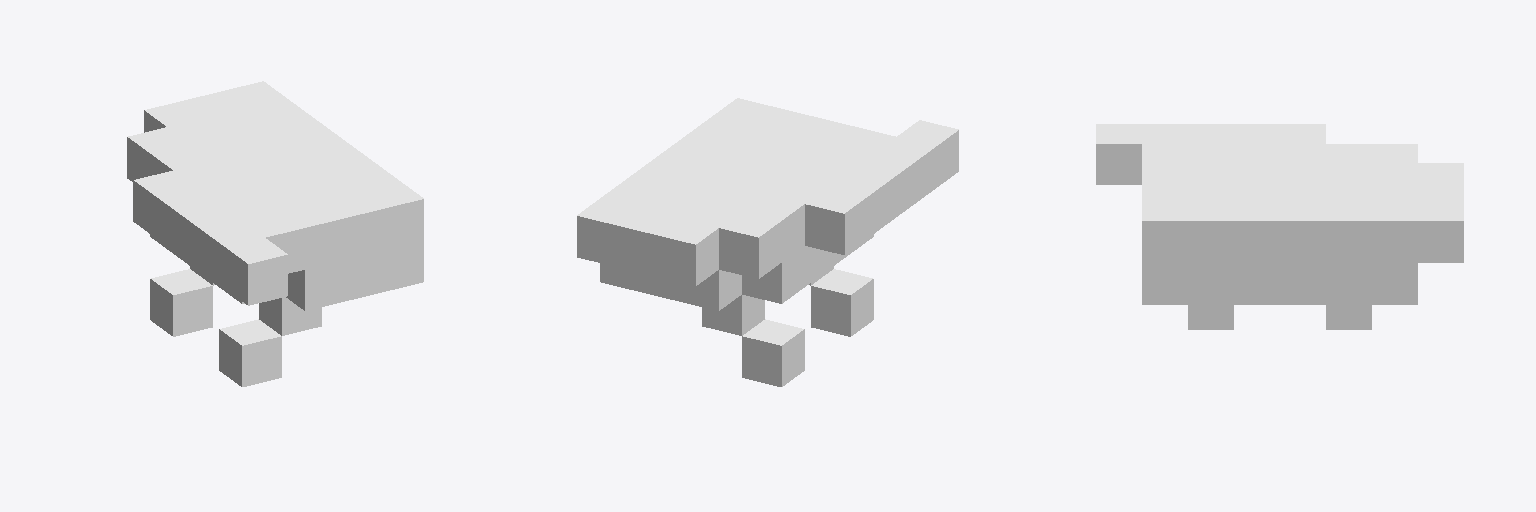
The model's file is SpaceInvader5.3.obj.
The picture shows the model from 3 angles: view 1: azimuth 30°, elevation 25°; view 2: azimuth 150°, elevation 25°; view 3: azimuth 270°, elevation 25°; orthographic projection.
Parts seen in each view (by area): view 1: object 1; view 2: object 1; view 3: object 1.
Part boxes in pixels (x1,y1,x2,y2): object 1: (127,81,423,386); object 1: (577,98,958,386); object 1: (1096,124,1463,329).
Bounding box in the file's own units: 0.5 × 0.4 × 0.8.